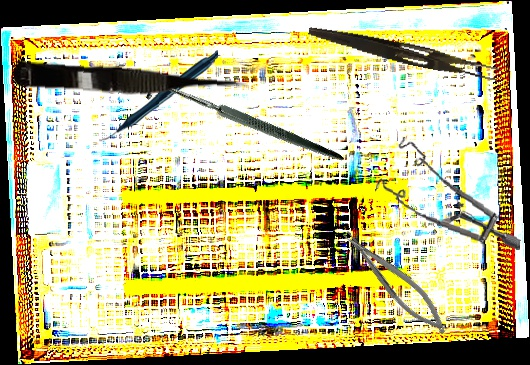Dressing Forceps: (306, 24, 501, 82)
Handpiece: (97, 50, 220, 142)
Hook Surgical: (138, 16, 345, 232)
Micro Scissor: (13, 60, 249, 104)
Needle Holder: (337, 220, 455, 343)
Speculum: (371, 135, 529, 250)
